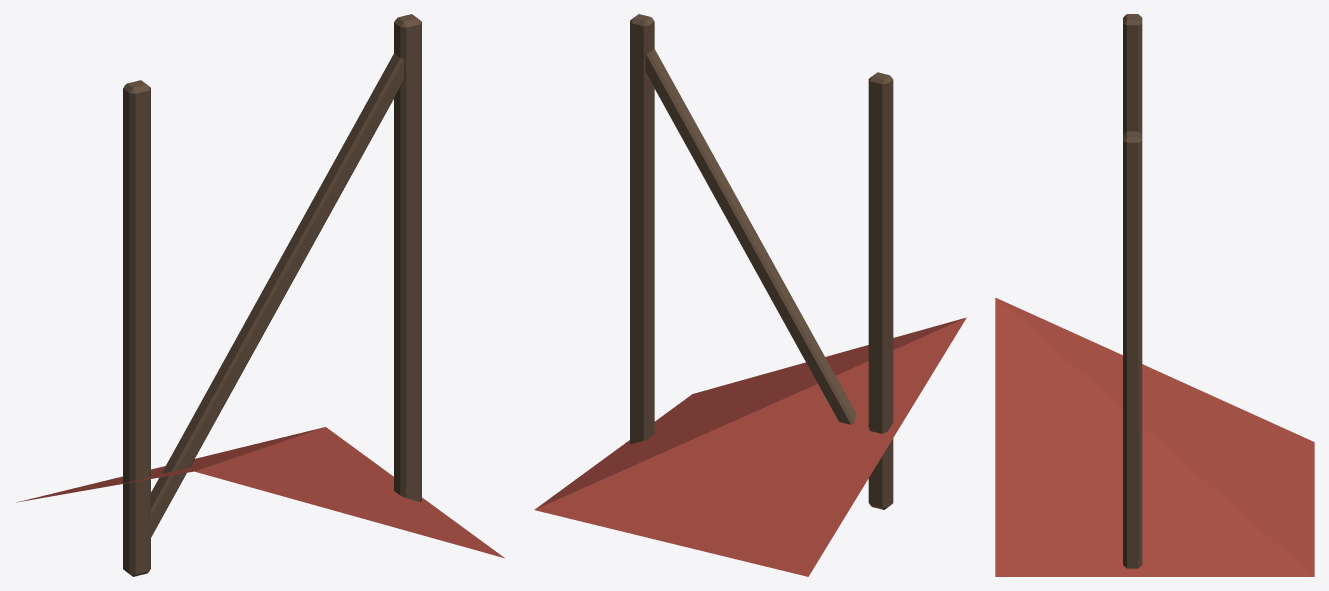
Rendered from architecture-village-roof-corner.lod0.glb.
The picture shows the model from 3 angles, left to right: view 1: azimuth 30°, elevation 25°; view 2: azimuth 150°, elevation 25°; view 3: azimuth 270°, elevation 25°; orthographic projection. The views are drawn at different scales.
Visible parts, largest first — view 1: architecture-village-roof-corner__body; view 2: architecture-village-roof-corner__body; view 3: architecture-village-roof-corner__body.
Boxes of the visible parts, left/top/right/bottom form: architecture-village-roof-corner__body: left=16, top=14, right=504, bottom=576; architecture-village-roof-corner__body: left=534, top=14, right=966, bottom=576; architecture-village-roof-corner__body: left=995, top=14, right=1314, bottom=576.
Bounding box in the file's own units: 2 × 3 × 2.
